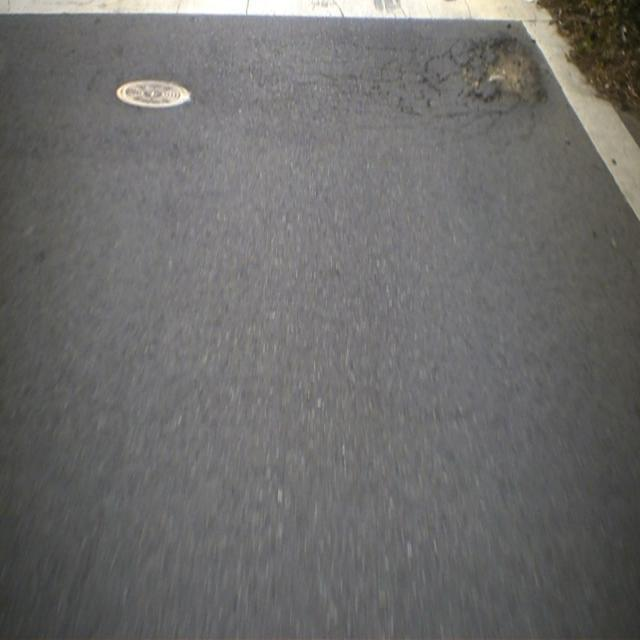Pothole: (462, 35, 546, 102)
